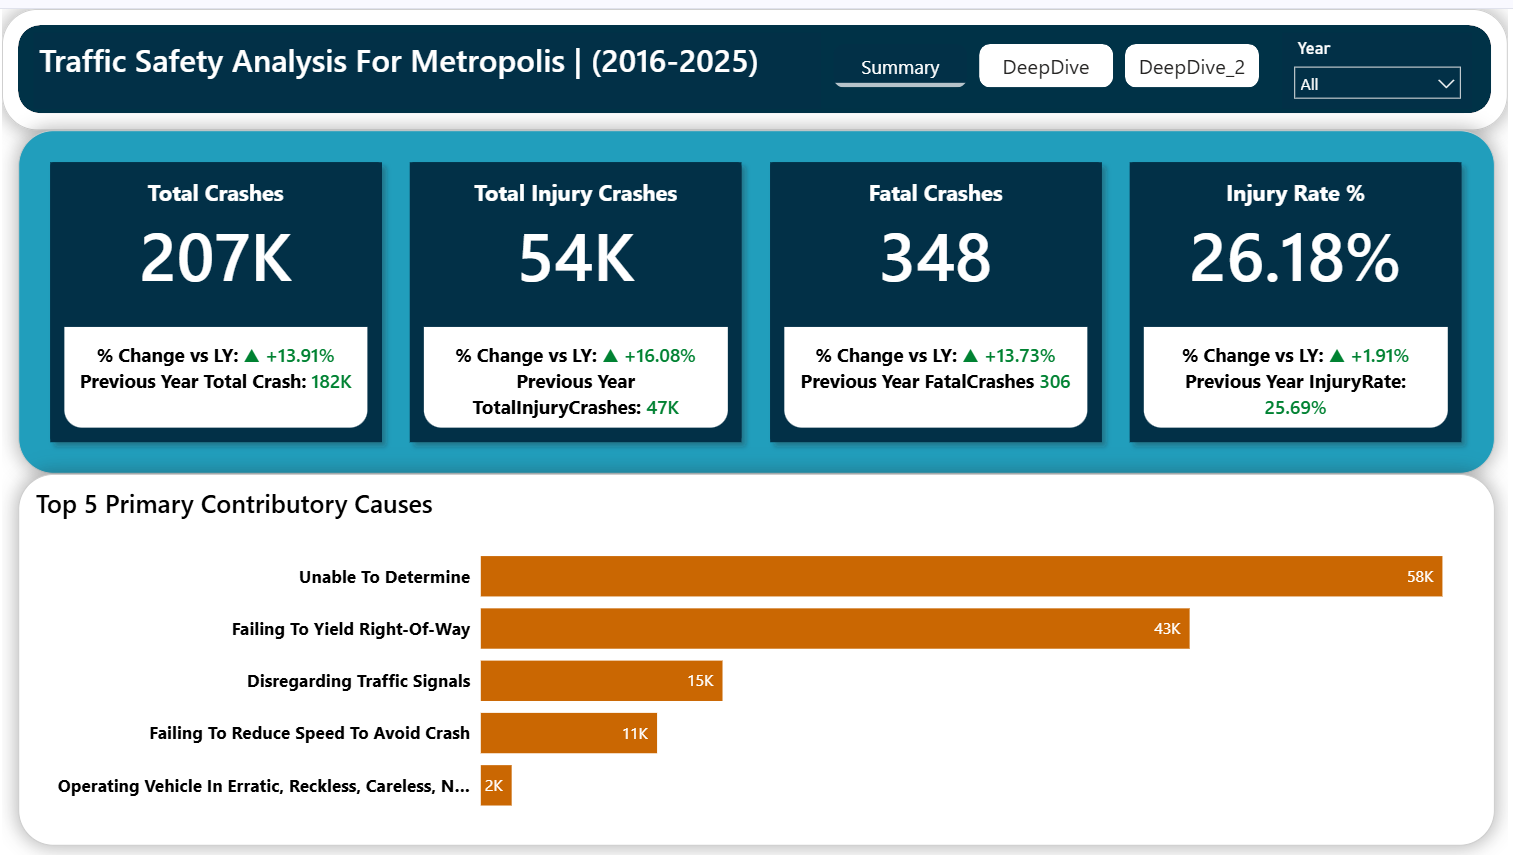

This screenshot's page, from the dashboard's own definition file:
{"tool":"powerbi","page":{"name":"Summary","canvas":[1280,720],"ordinal":0},"visuals":[{"type":"shape","box":[0,0,1280.3,102.9],"z":1000},{"type":"slicer","fields":{"Values":["Date Table.Year"]},"box":[1088.2,20.6,161.9,64.5],"z":2000},{"type":"cardVisual","fields":{"Data":["_Measures.Total Crashes","_Measures.Total Injury Crashes","_Measures.Fatal Crashes","_Measures.Injury Rate %"]},"box":[13.7,102.9,1255.6,292.3],"z":3000},{"type":"clusteredBarChart","title":"Top 5 Primary Contributory Causes ","fields":{"Category":["traffic_accidents (2).prim_contributory_cause"],"Y":["CountNonNull(traffic_accidents (2).most_severe_injury)"]},"box":[13.7,395.2,1255.6,315.6],"z":6000},{"type":"pageNavigator","box":[706.7,30.2,363.6,37],"z":7000},{"type":"textbox","box":[26.1,20.6,669.6,64.5],"z":8000}]}

Visuals, with their boxes in screenshot pixels (x1, y1, x2, y2), scaled from the page's 1280x720 canvas onto the 1513x855 screenshot:
shape: 0, 0, 1512, 122
slicer - Date Table.Year: 1286, 24, 1478, 101
cardVisual - _Measures.Total Crashes x _Measures.Total Injury Crashes: 16, 122, 1500, 469
"Top 5 Primary Contributory Causes " clusteredBarChart: 16, 469, 1500, 844
pageNavigator: 835, 36, 1265, 80
textbox: 31, 24, 822, 101
